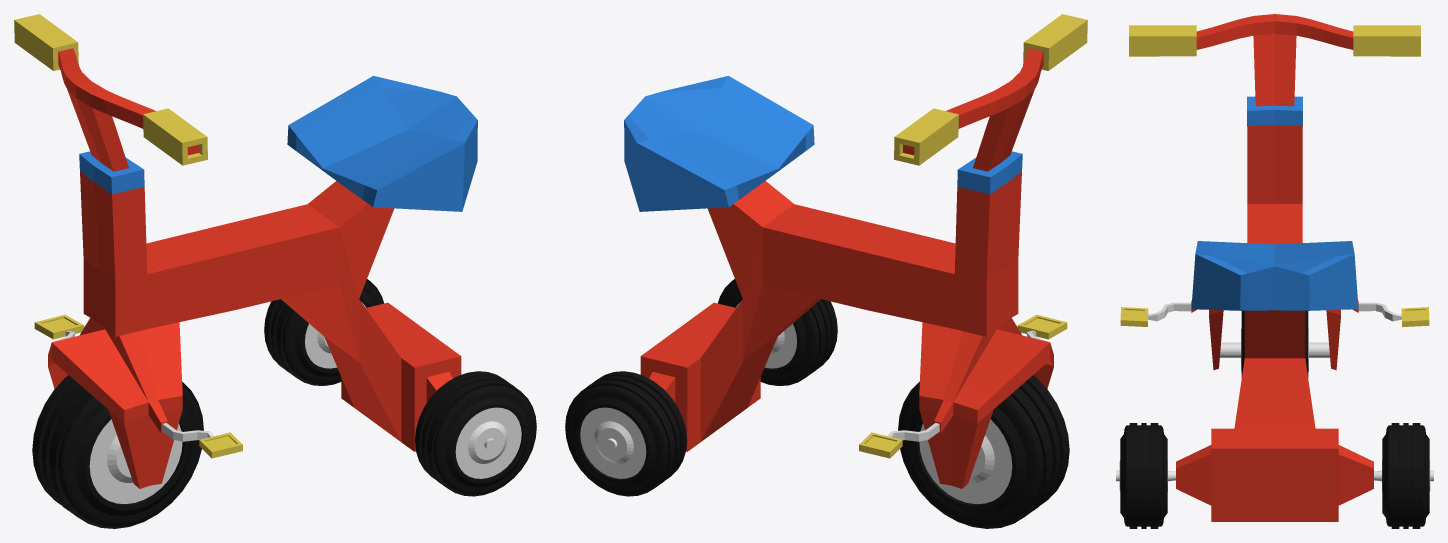
The model's file is Bike.fbx.
3 views of the same model, side by side, from view 1: azimuth 30°, elevation 25°; view 2: azimuth 150°, elevation 25°; view 3: azimuth 270°, elevation 25° (orthographic). The views are drawn at different scales.
Parts seen in each view (by area): view 1: Cube; view 2: Cube; view 3: Cube.
Part boxes in pixels (<box>): Cube: <box>14,14,536,528</box>; Cube: <box>565,14,1087,528</box>; Cube: <box>1116,14,1433,528</box>.
Size of the model in its own units: 1509 by 1545 by 1153.
